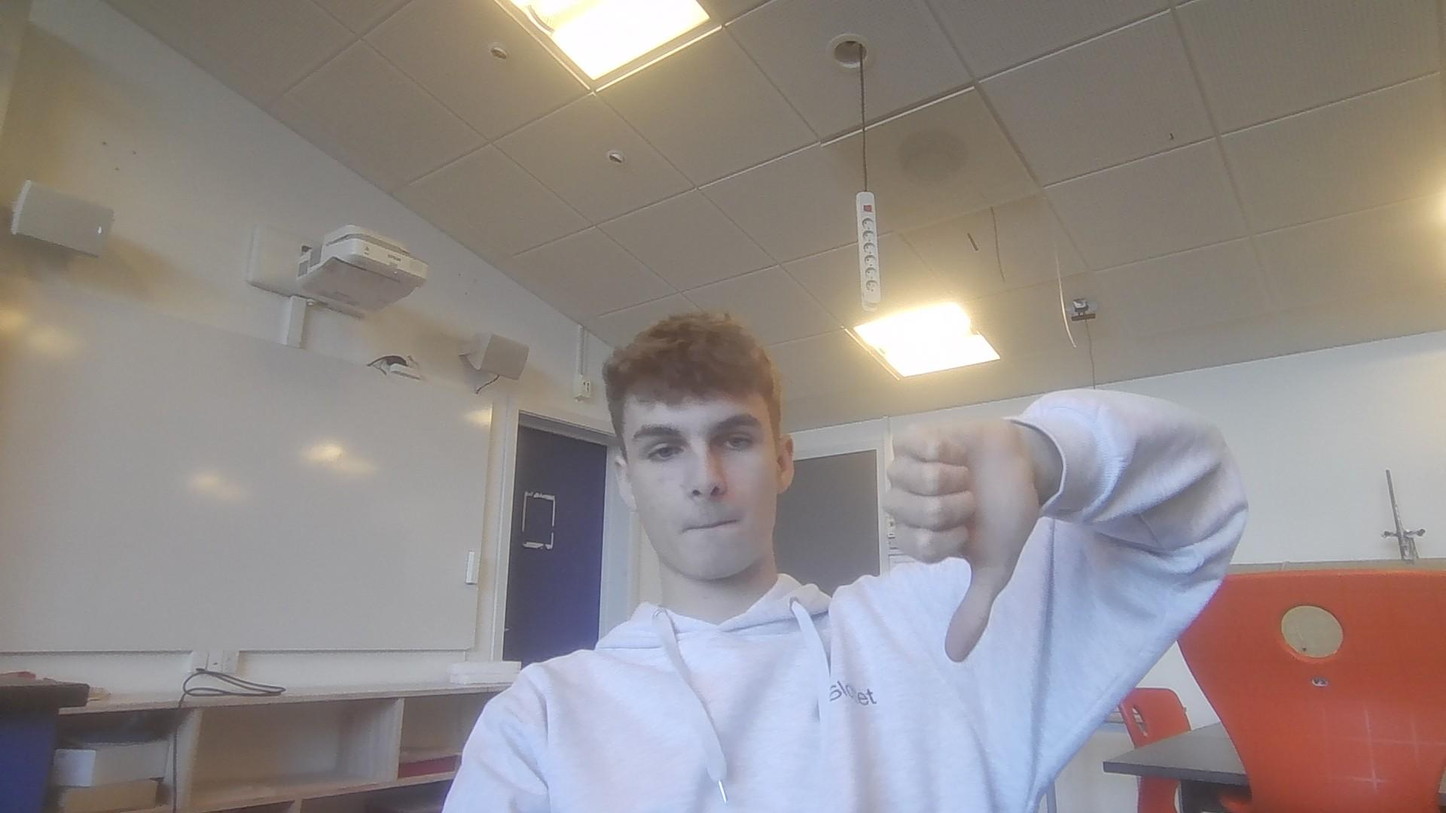thumbs down: (883, 418, 1049, 662)
